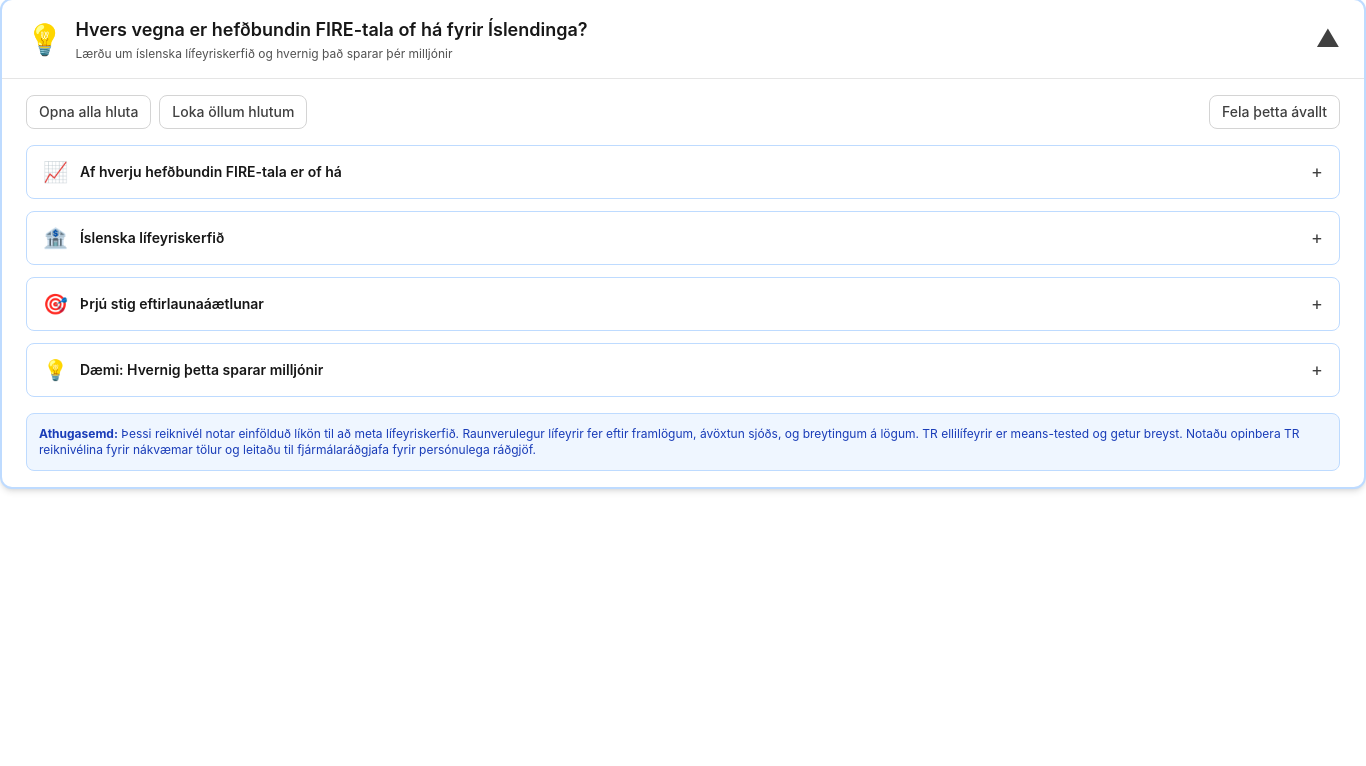
Scenario: PensionEducationalIntro › Content Accuracy › displays example with correct savings calculation
// Expand example section
Click the button "💡 Dæmi: Hvernig þetta sparar milljónir +" at (202, 370), box [27,344,1339,396]
(page scrolled)
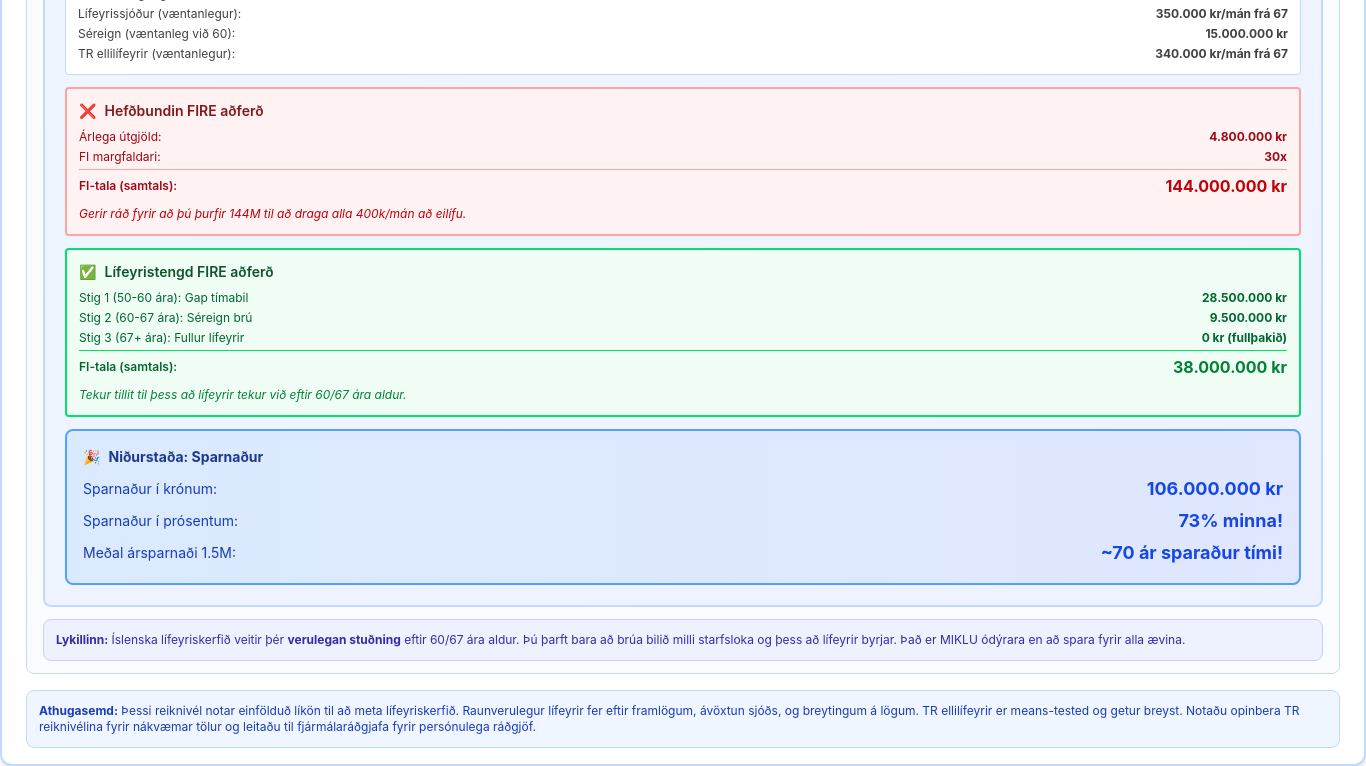
Expected: the text "144.000.000 kr" is shown, [1165,174,1287,198]
Expected: the text "38.000.000 kr" is shown, [1173,355,1287,379]
Expected: the text "106.000.000 kr" is shown, [1147,475,1283,503]
